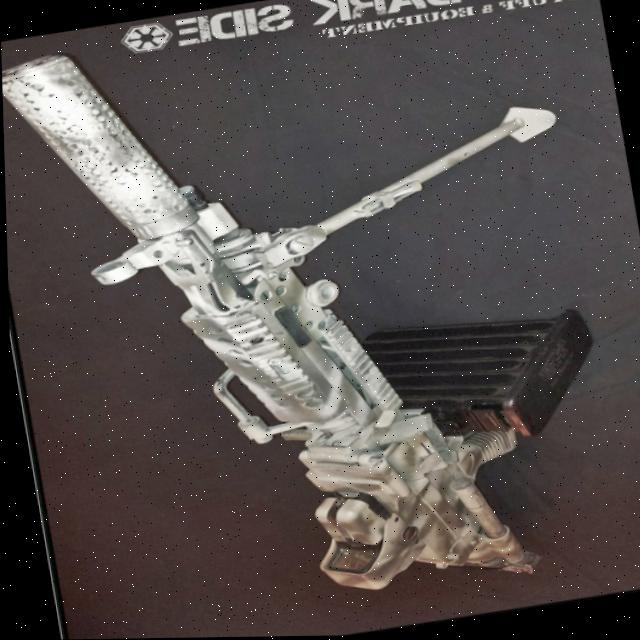firearm: (0, 0, 634, 640)
